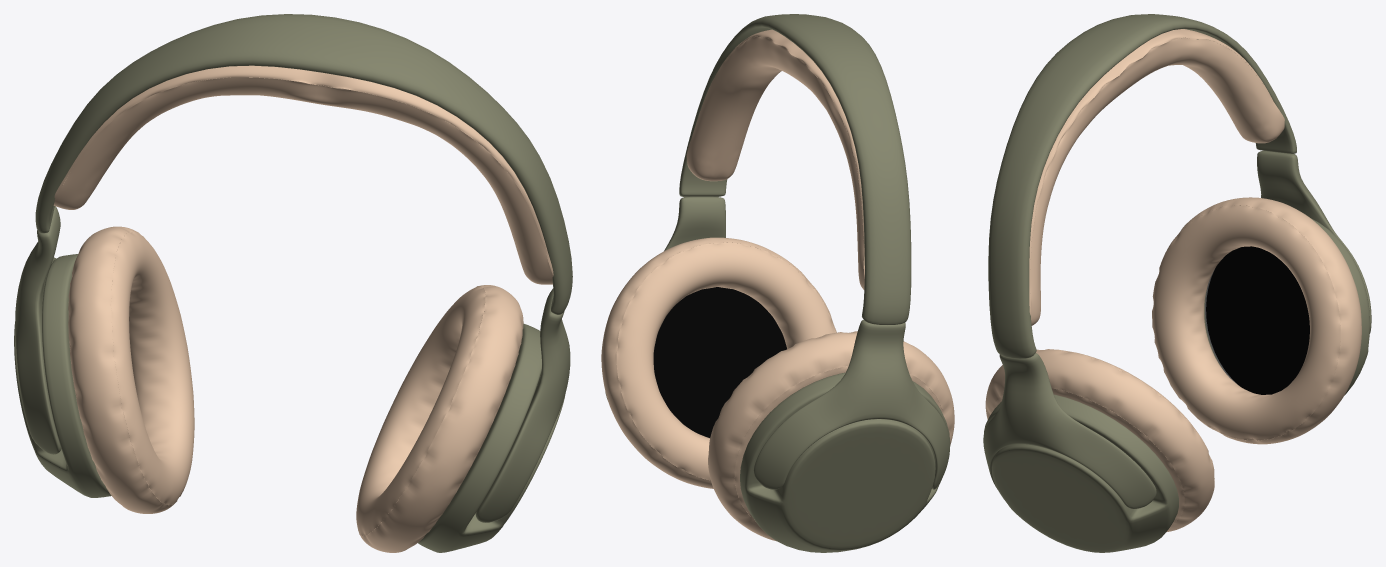
File: product.glb
3 renders of one model, left to right at view 1: azimuth 30°, elevation 25°; view 2: azimuth 150°, elevation 25°; view 3: azimuth 270°, elevation 25°, orthographic. The views are drawn at different scales.
Parts seen in each view (by area): view 1: Object_4, Object_7, Object_6; view 2: Object_4, Object_7, Object_3, Object_6; view 3: Object_4, Object_7, Object_6, Object_3.
Part boxes in pixels (<box>): Object_4: <box>14,14,572,552</box>; Object_7: <box>68,226,523,552</box>; Object_6: <box>53,65,553,284</box>; Object_4: <box>605,14,950,552</box>; Object_7: <box>601,237,954,541</box>; Object_3: <box>653,287,786,437</box>; Object_6: <box>686,29,864,289</box>; Object_4: <box>983,14,1371,552</box>; Object_7: <box>985,197,1361,532</box>; Object_6: <box>1029,29,1284,325</box>; Object_3: <box>1206,246,1309,394</box>.
Bounding box in the file's own units: 4.21 × 4.83 × 3.68.
